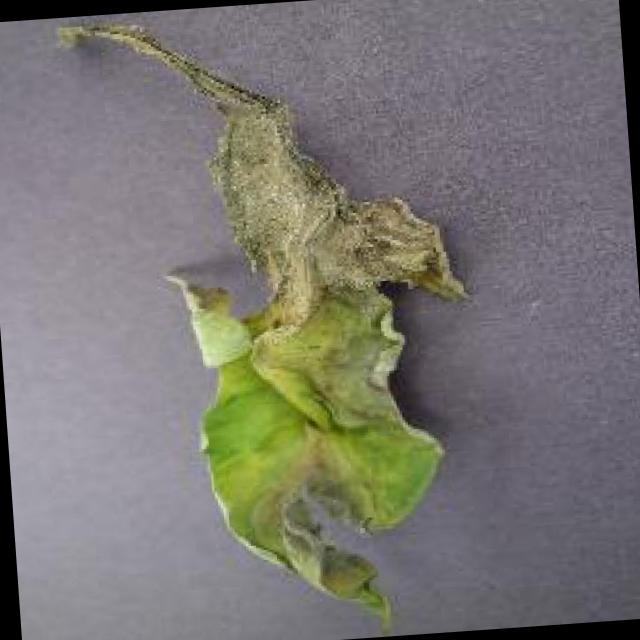Tomato_Late_Blight: (182, 53, 476, 425)
